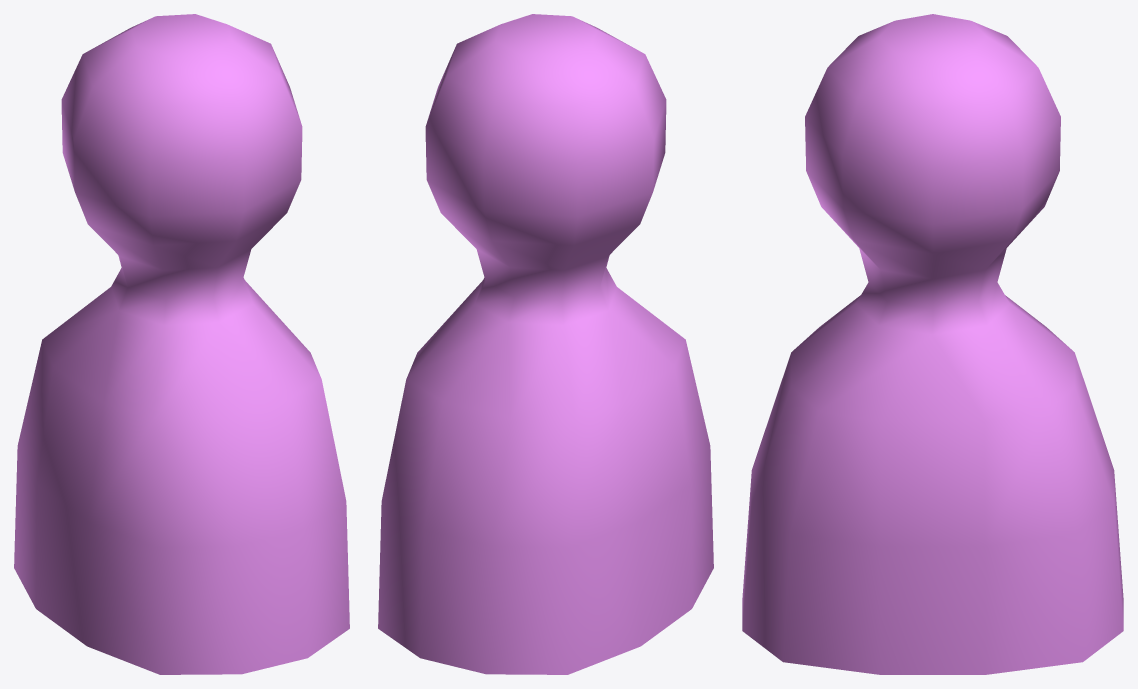
File: Pawn_Pink.fbx
3 renders of one model, left to right at view 1: azimuth 30°, elevation 25°; view 2: azimuth 150°, elevation 25°; view 3: azimuth 270°, elevation 25°, orthographic. The views are drawn at different scales.
Visible parts, largest first — view 1: Pawn_Pink; view 2: Pawn_Pink; view 3: Pawn_Pink.
Part boxes in pixels (x1=…): Pawn_Pink: x1=14, y1=14, x2=349, y2=674; Pawn_Pink: x1=378, y1=14, x2=713, y2=674; Pawn_Pink: x1=742, y1=14, x2=1123, y2=674.
Bounding box in the file's own units: 63.06 × 141 × 84.16.
